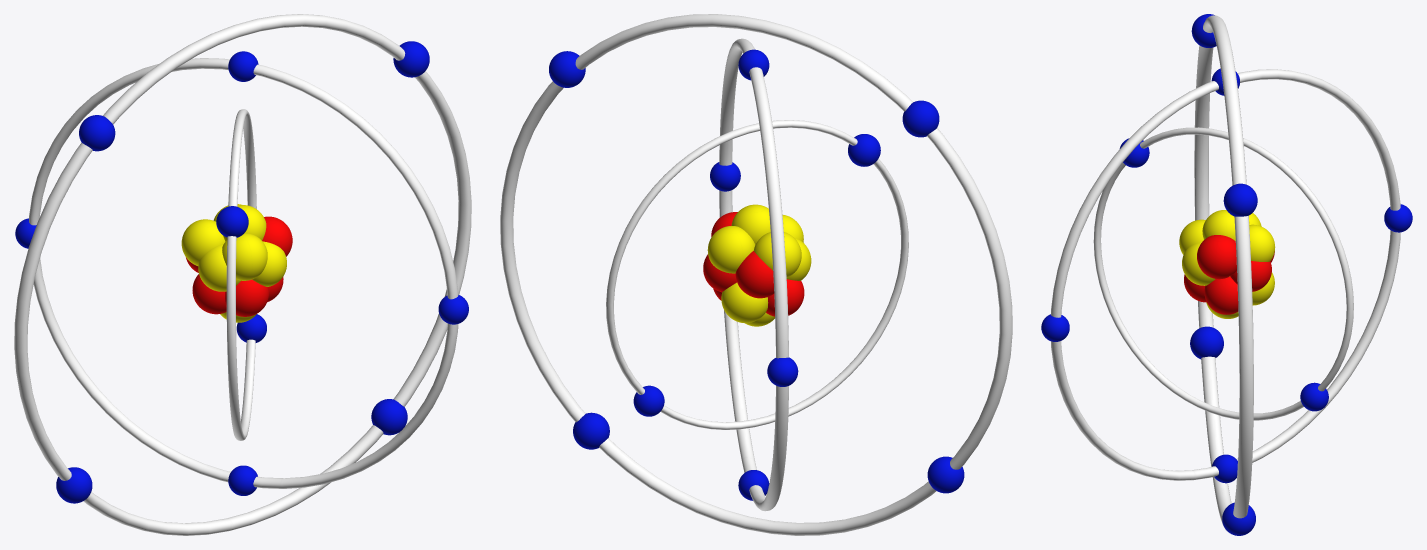
Rendered from InvisibleBuildersOfMatter.glb.
3 views of the same model, side by side, from view 1: azimuth 30°, elevation 25°; view 2: azimuth 150°, elevation 25°; view 3: azimuth 270°, elevation 25° (orthographic). The views are drawn at different scales.
Parts seen in each view (by area): view 1: Atom; view 2: Atom; view 3: Atom.
Part boxes in pixels (<box>): Atom: <box>14,14,471,535</box>; Atom: <box>500,14,1012,535</box>; Atom: <box>1041,14,1412,535</box>.
Bounding box in the file's own units: 2.45 × 2.46 × 1.76.
1 material, 1 textured.
